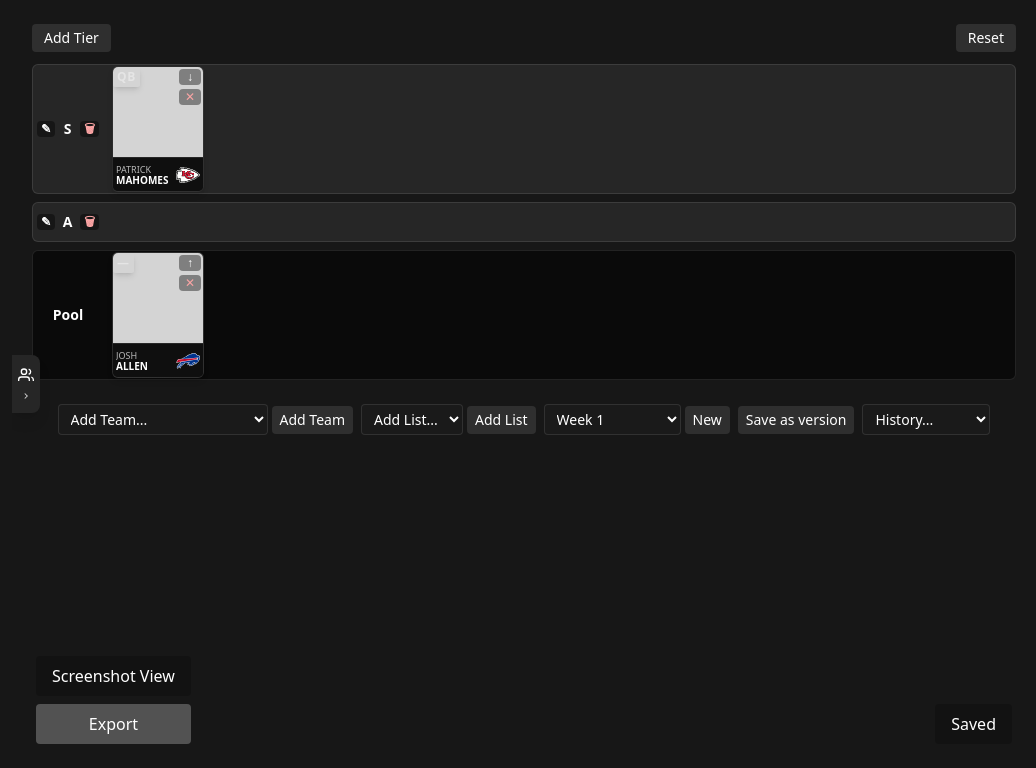
it: TierMakerBoard history › shows an old version without saving it, then goes back
The width and height of the screenshot is (1036, 768).
Select "Sep 1, 2026" in the dropdown named "History" at (926, 420), box [862,404,990,435]
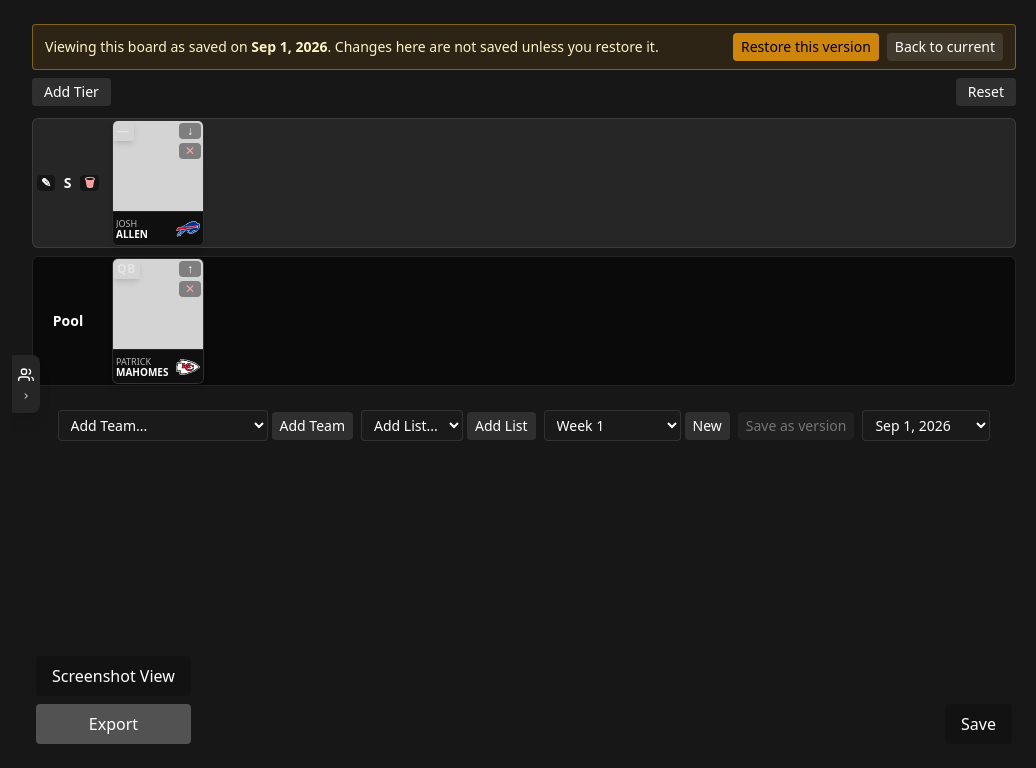
Now the text "Viewing this board as saved on" is shown, box [45,37,248,56]
Now the text "Viewing this board as saved on" shows "Sep 1, 2026", box [251,37,328,56]
Click the button "Back to current" at (945, 47), box [887,33,1003,61]
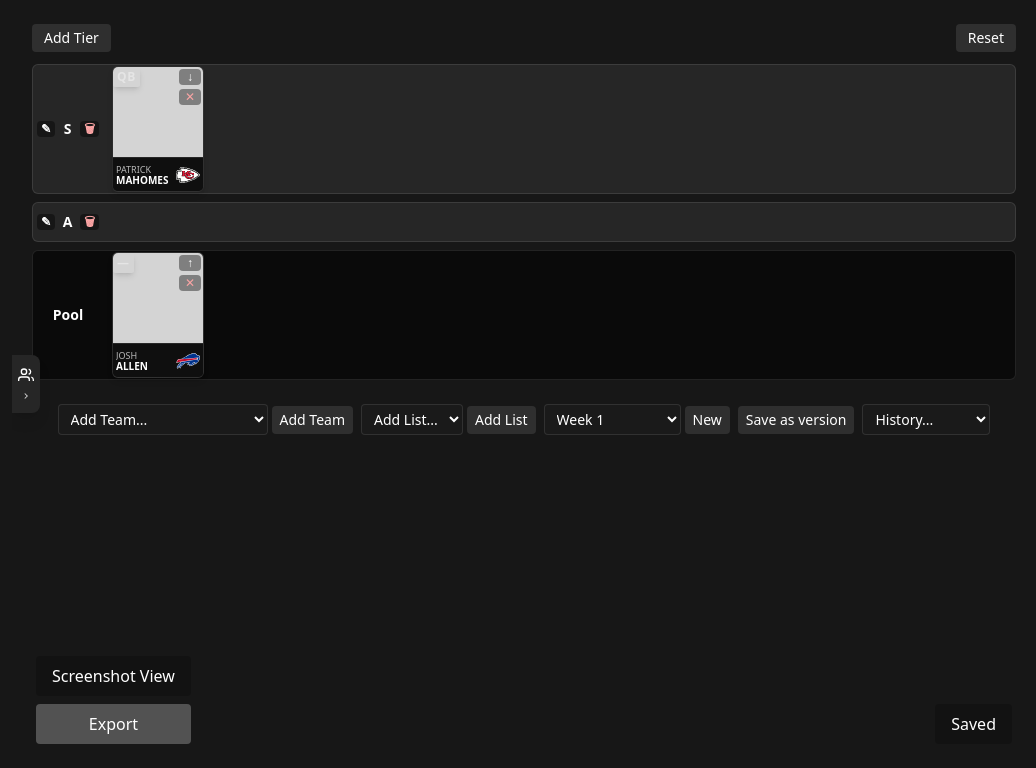
Now the text "Viewing this board" is gone
